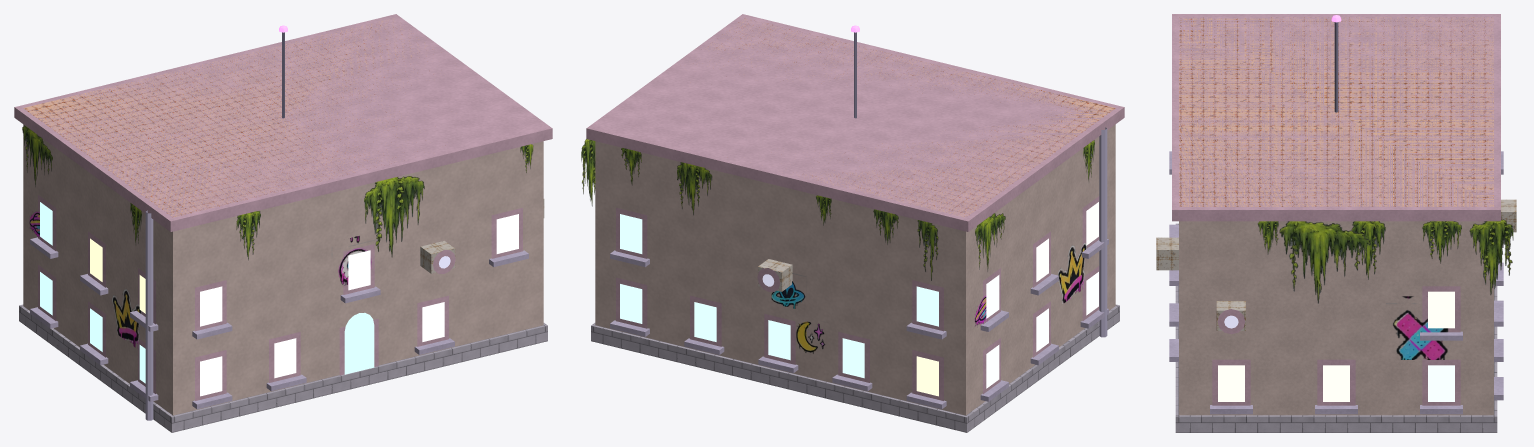
File: BUILDING_08.glb
3 views of the same model, side by side, from view 1: azimuth 30°, elevation 25°; view 2: azimuth 150°, elevation 25°; view 3: azimuth 270°, elevation 25° (orthographic). The views are drawn at different scales.
Parts seen in each view (by area): view 1: B_AS_08_Skin, B_AS_08_Moss; view 2: B_AS_08_Skin, B_AS_08_Moss; view 3: B_AS_08_Skin, B_AS_08_Moss.
Boxes of the visible parts, <box> form: B_AS_08_Skin: <box>14,14,552,432</box>; B_AS_08_Moss: <box>22,125,533,260</box>; B_AS_08_Skin: <box>586,14,1124,432</box>; B_AS_08_Moss: <box>581,138,1094,280</box>; B_AS_08_Skin: <box>1156,14,1516,432</box>; B_AS_08_Moss: <box>1257,219,1513,303</box>.
Bounding box in the file's own units: 21.6 × 15.75 × 16.28.
12 materials, 6 textured.
